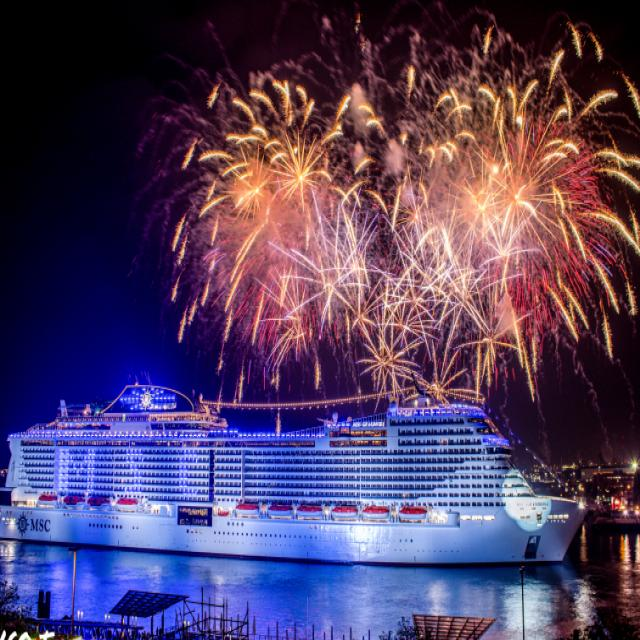cruises: (1, 354, 590, 580)
